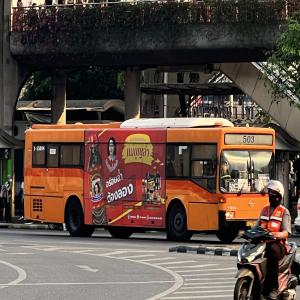BMTA-bus: (23, 118, 276, 243)
Bus Line Number: (240, 133, 258, 145)
Destination Sign: (257, 173, 270, 186)
